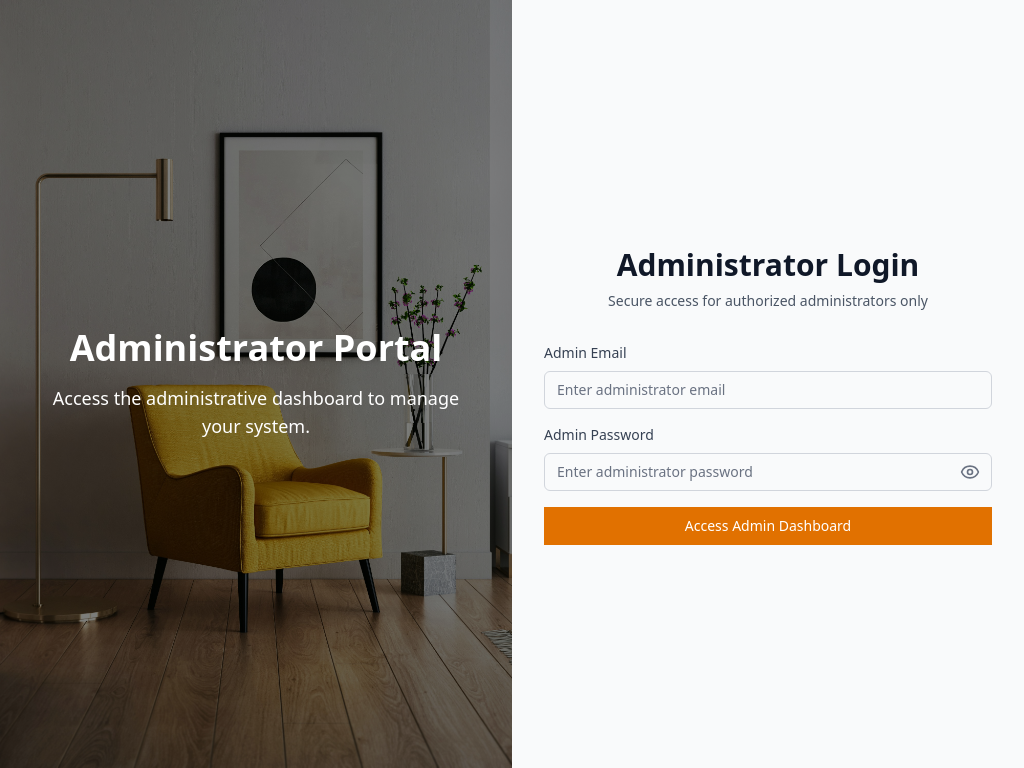
Test: LoginPage › shows error for non-admin users
Note: Fill out the form
Type "user@example.com" into the field labelled "Admin Email" at (768, 390), box [544,371,992,409]
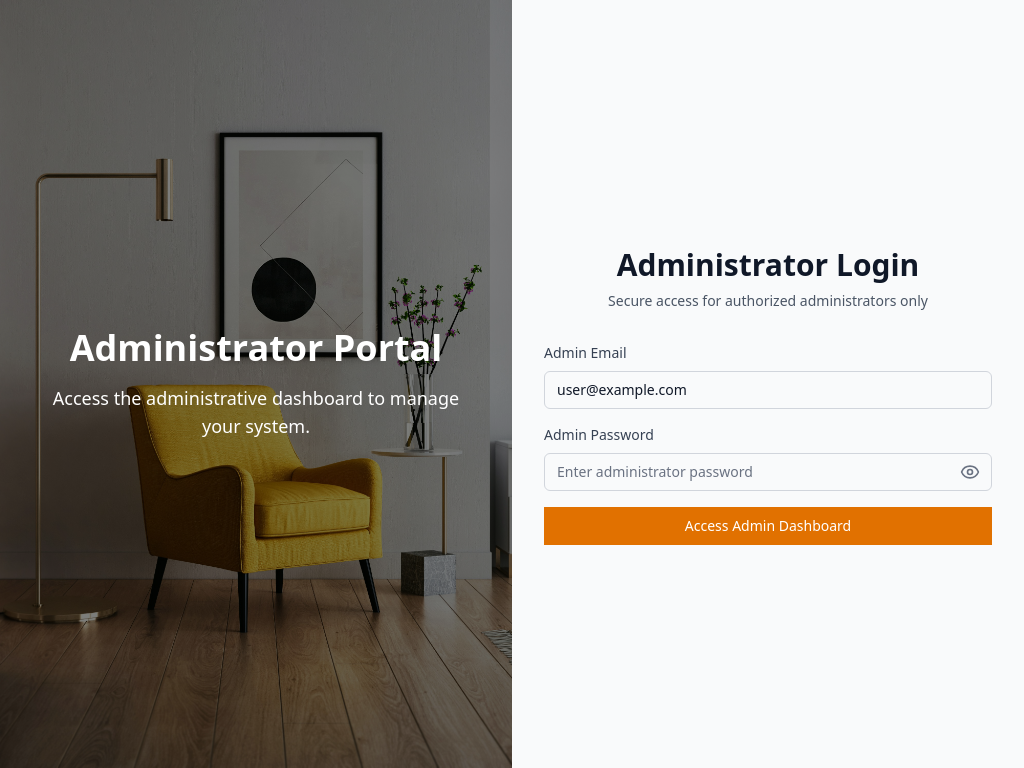
Type "password123" into the password field labelled "Admin Password" at (768, 472), box [544,453,992,491]
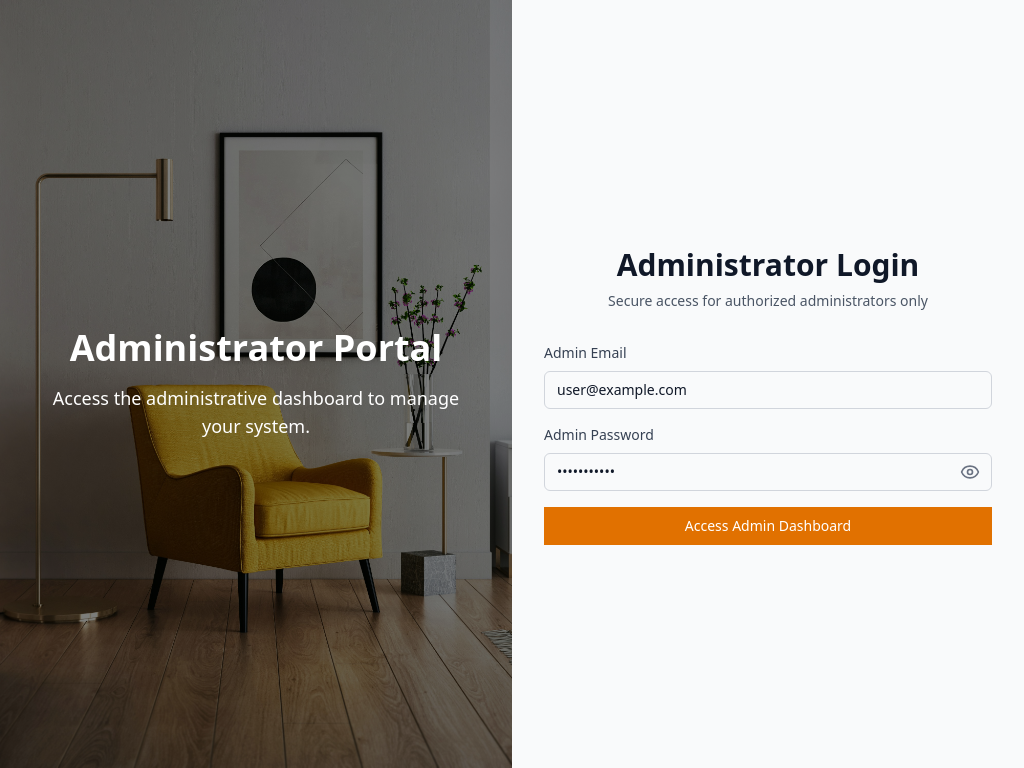
Note: Submit form
Click the button "Access Admin Dashboard" at (768, 526), box [544,507,992,545]
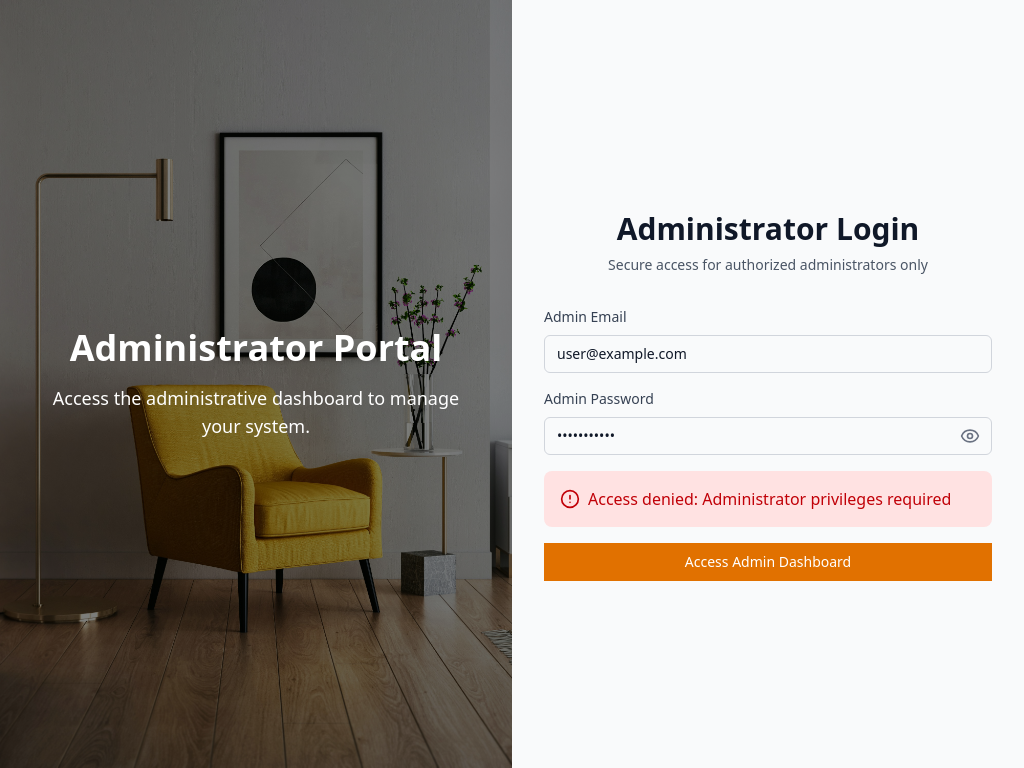
Expected: the text "Access denied: Administrator privileges required" is shown, [588,488,951,510]
